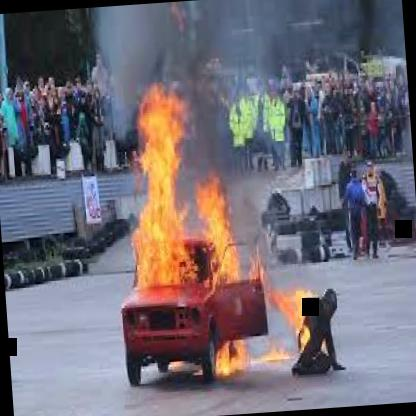fire: (104, 81, 274, 398)
